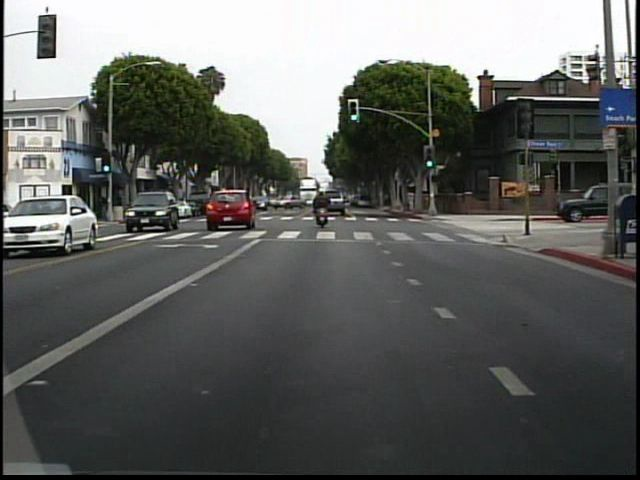person: (312, 184, 340, 231)
